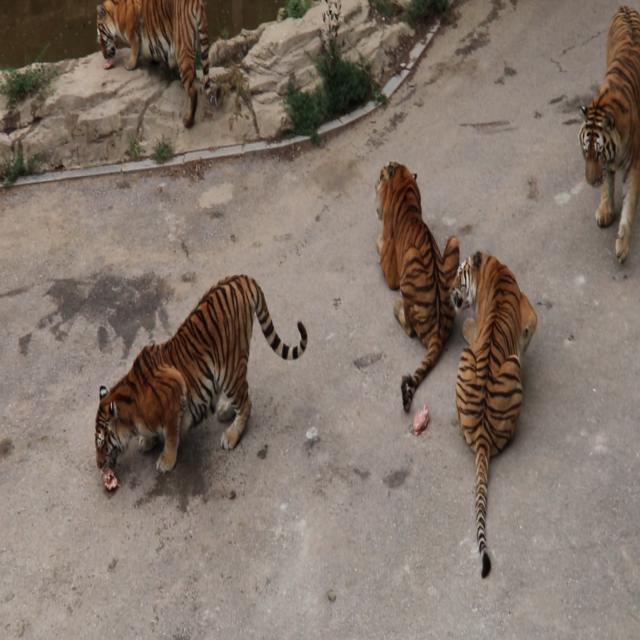Tiger: (93, 271, 307, 474), (448, 252, 538, 578), (374, 158, 459, 416), (95, 0, 231, 127), (575, 5, 640, 264)
